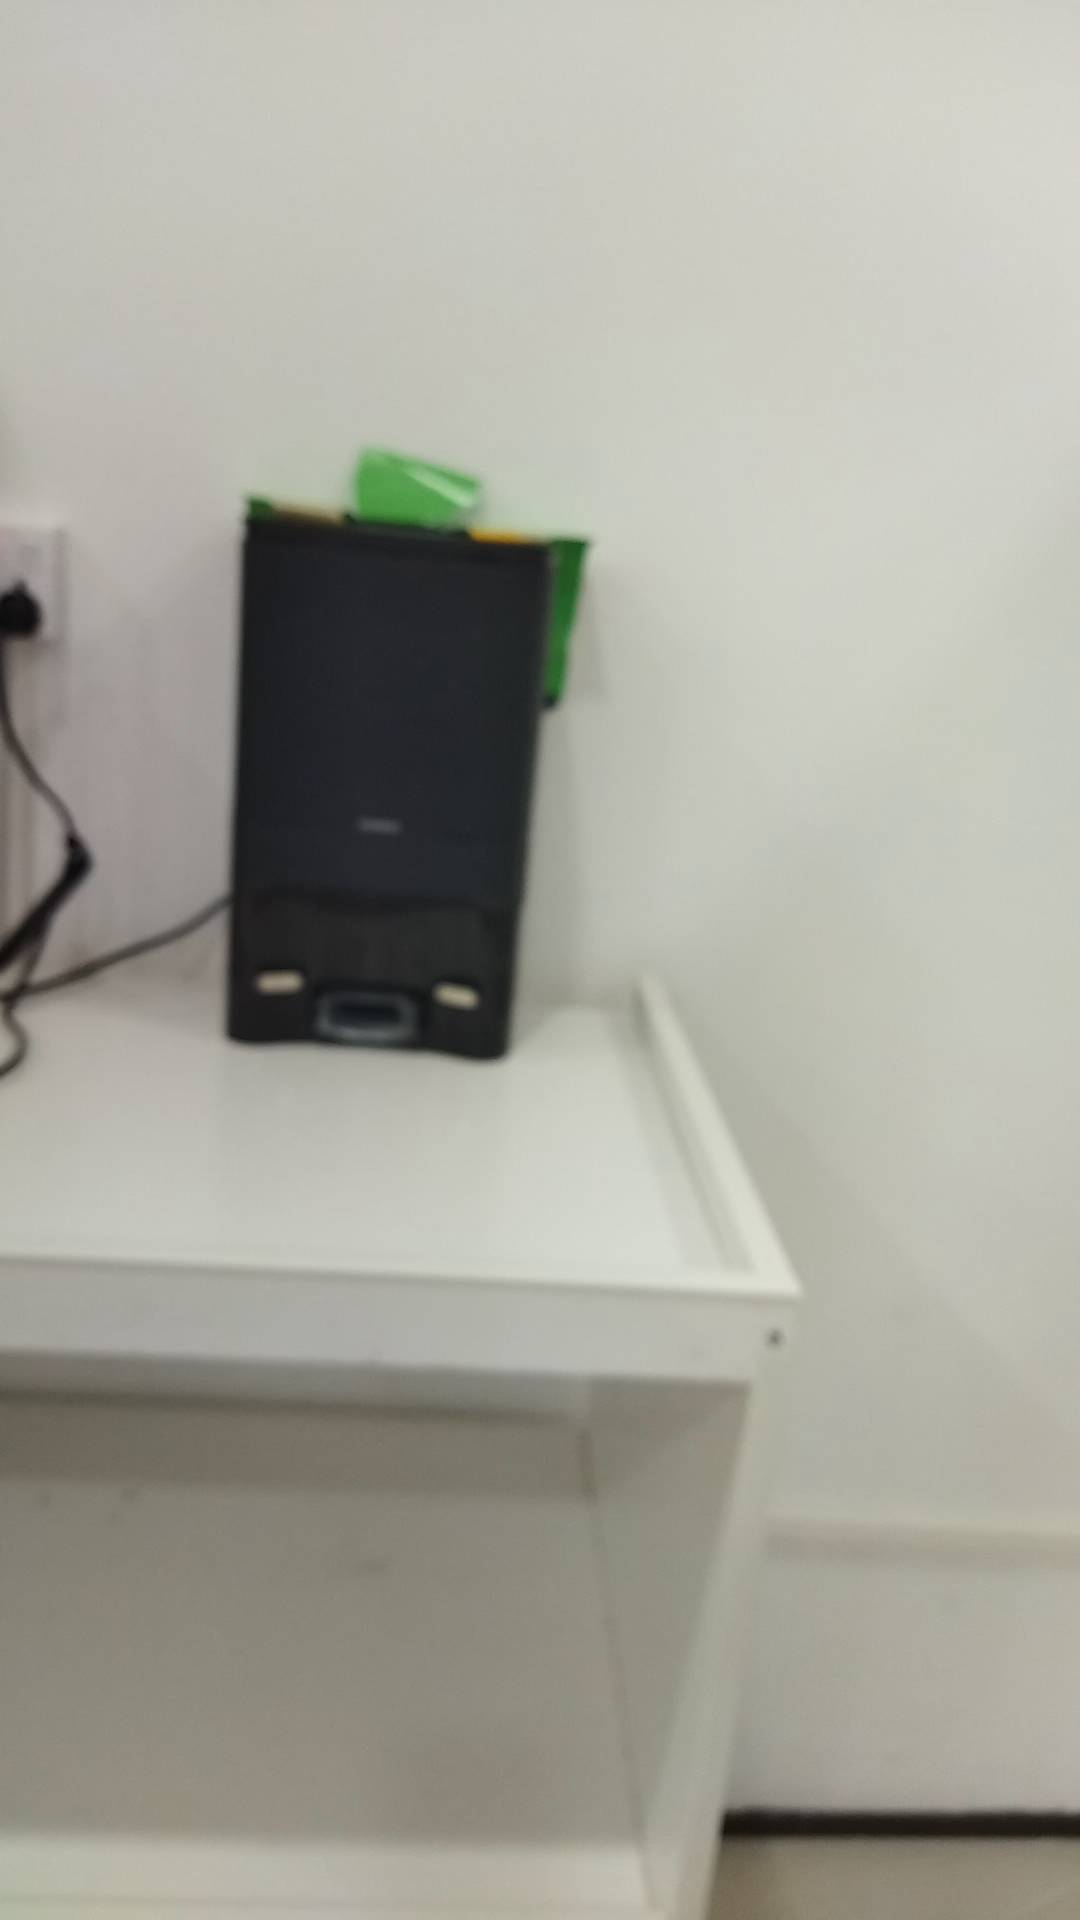dust collecting barrel: (222, 513, 553, 1063)
